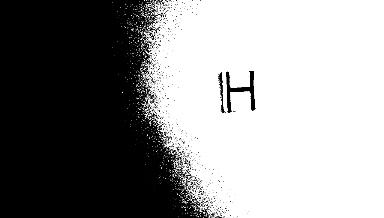H: (219, 67, 260, 113)
